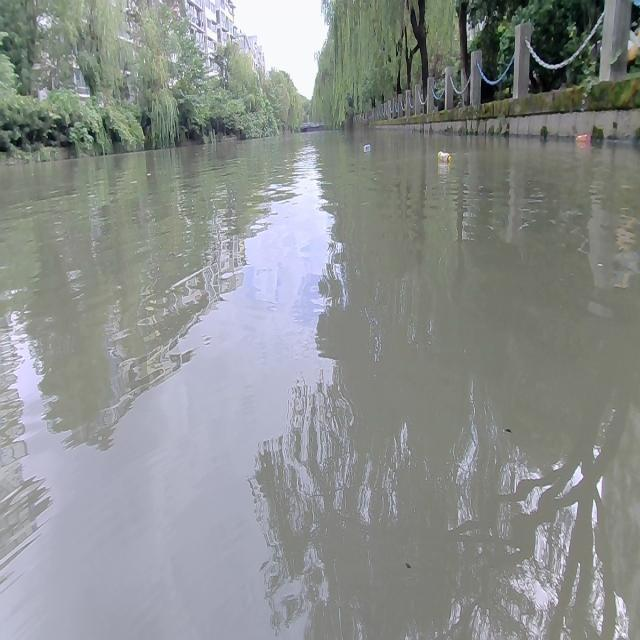bottle: (435, 146, 453, 162), (575, 128, 589, 145), (362, 144, 369, 150)
